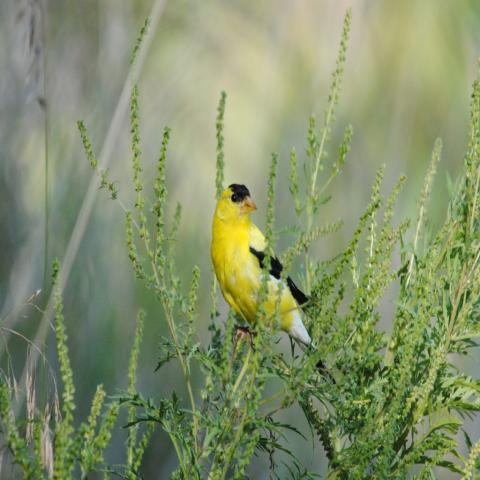bird: (209, 180, 337, 386)
